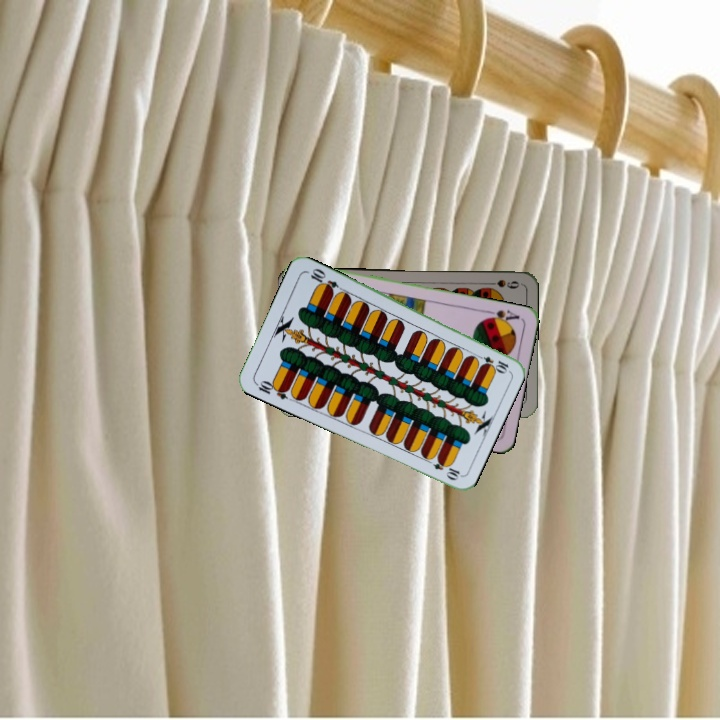E10: (251, 376, 291, 402), (471, 350, 511, 374)
S9: (481, 275, 522, 291)
SA: (481, 306, 522, 327)
